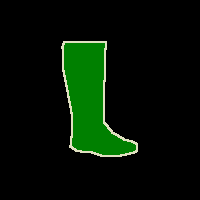shoe: (62, 41, 137, 156)
